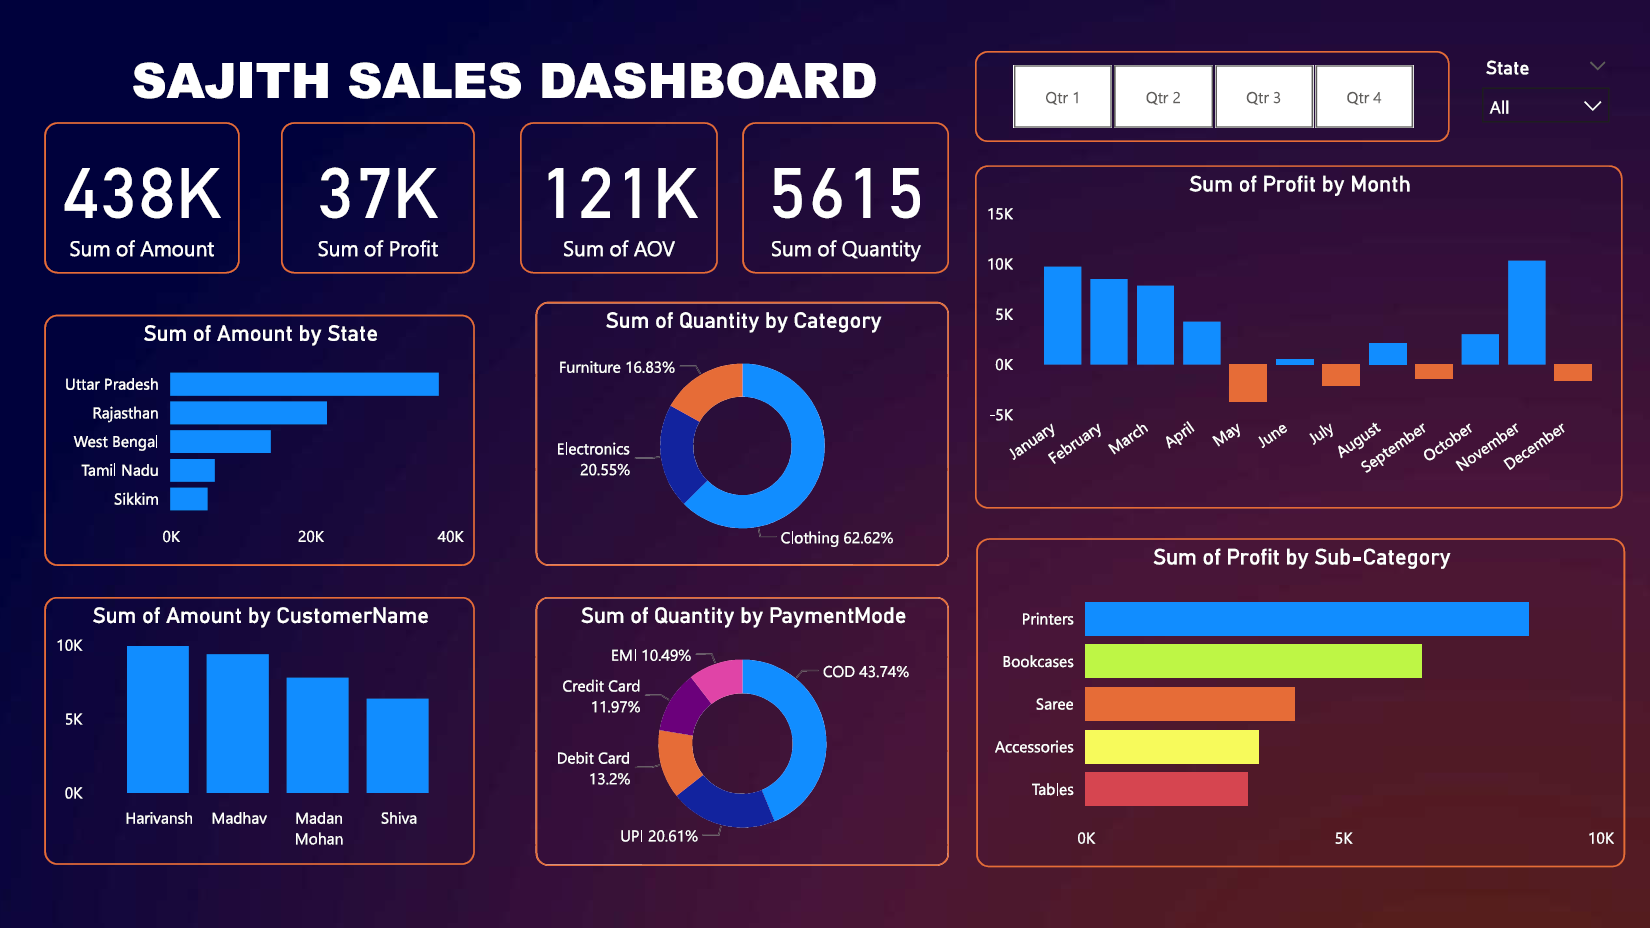

This screenshot's page, from the dashboard's own definition file:
{"tool":"powerbi","page":{"name":"Page 1","canvas":[1280,720],"ordinal":0},"visuals":[{"type":"clusteredBarChart","fields":{"Y":["Sum(Details.Profit)"],"Category":["Details.Sub-Category"]},"box":[757.8,413.9,498.9,253.2],"z":0},{"type":"donutChart","fields":{"Category":["Details.PaymentMode"],"Y":["Sum(Details.Quantity)"]},"box":[419.4,458.8,318,207.4],"z":1000},{"type":"columnChart","fields":{"Y":["Sum(Details.Profit)"],"Category":["Orders.Order Date.Variation.Date Hierarchy.Month"]},"box":[757.1,127.2,498.2,263.5],"z":2000},{"type":"donutChart","fields":{"Category":["Details.Category"],"Y":["Sum(Details.Quantity)"]},"box":[419.4,231.7,318,202.9],"z":3000},{"type":"columnChart","fields":{"Y":["Sum(Details.Amount)"],"Category":["Orders.CustomerName"]},"box":[40.9,458.8,331.6,205.9],"z":4000},{"type":"barChart","fields":{"Category":["Orders.State"],"Y":["Sum(Details.Amount)"]},"box":[40.9,242.3,331.6,192.3],"z":5000},{"type":"slicer","fields":{"Values":["Orders.Order Date.Variation.Date Hierarchy.Quarter"]},"box":[757.1,39.4,364.9,69.7],"z":6000},{"type":"card","fields":{"Values":["Sum(Details.Amount)"]},"box":[40.9,93.9,149.9,116.6],"z":7000},{"type":"card","fields":{"Values":["Sum(Details.Quantity)"]},"box":[578.4,93.9,159,116.6],"z":8000},{"type":"card","fields":{"Values":["Sum(Details.Profit)"]},"box":[222.6,93.9,149.9,116.6],"z":9000},{"type":"card","fields":{"Values":["Sum(Details.AOV)"]},"box":[407.3,93.9,151.4,116.6],"z":10000},{"type":"textbox","box":[92.4,28.8,605.7,65.1],"z":11000},{"type":"slicer","fields":{"Values":["Orders.State"]},"box":[1137.2,39.4,118.1,69.7],"z":12000}]}

Visuals, with their boxes in screenshot pixels (x1, y1, x2, y2), scaled from the page's 1280x720 canvas onto the 1650x928 screenshot:
clusteredBarChart - Sum(Details.Profit) x Details.Sub-Category: (977,533,1620,860)
donutChart - Details.PaymentMode x Sum(Details.Quantity): (541,591,951,859)
columnChart - Sum(Details.Profit) x Orders.Order Date.Variation.Date Hierarchy.Month: (976,164,1618,504)
donutChart - Details.Category x Sum(Details.Quantity): (541,299,951,560)
columnChart - Sum(Details.Amount) x Orders.CustomerName: (53,591,480,857)
barChart - Orders.State x Sum(Details.Amount): (53,312,480,560)
slicer - Orders.Order Date.Variation.Date Hierarchy.Quarter: (976,51,1446,141)
card - Sum(Details.Amount): (53,121,246,271)
card - Sum(Details.Quantity): (746,121,951,271)
card - Sum(Details.Profit): (287,121,480,271)
card - Sum(Details.AOV): (525,121,720,271)
textbox: (119,37,900,121)
slicer - Orders.State: (1466,51,1618,141)
